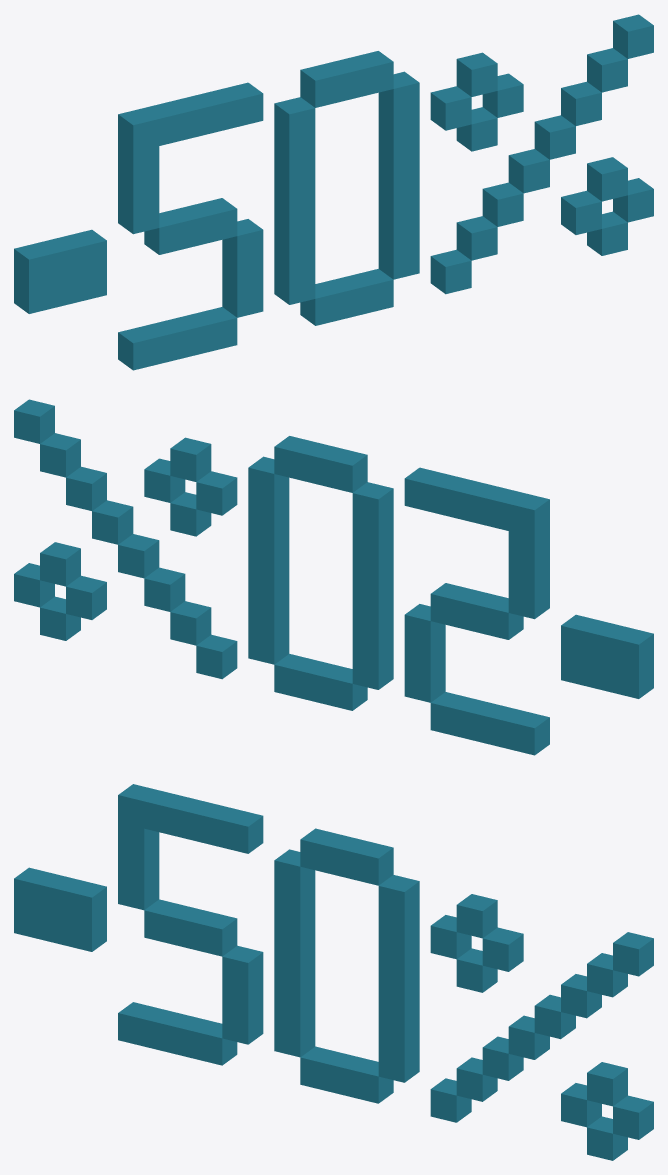
Rendered from neon_50_off.dae.
3 renders of one model, top to bottom at view 1: azimuth 30°, elevation 25°; view 2: azimuth 150°, elevation 25°; view 3: azimuth 330°, elevation 25°, orthographic.
Parts seen in each view (by area): view 1: Content; view 2: Content; view 3: Content.
Part boxes in pixels (left/top/right/bottom): Content: left=14, top=14, right=653, bottom=370; Content: left=14, top=399, right=653, bottom=755; Content: left=14, top=784, right=653, bottom=1160.
Bounding box in the file's own units: 24 × 9 × 1.
1 material, 1 textured.
